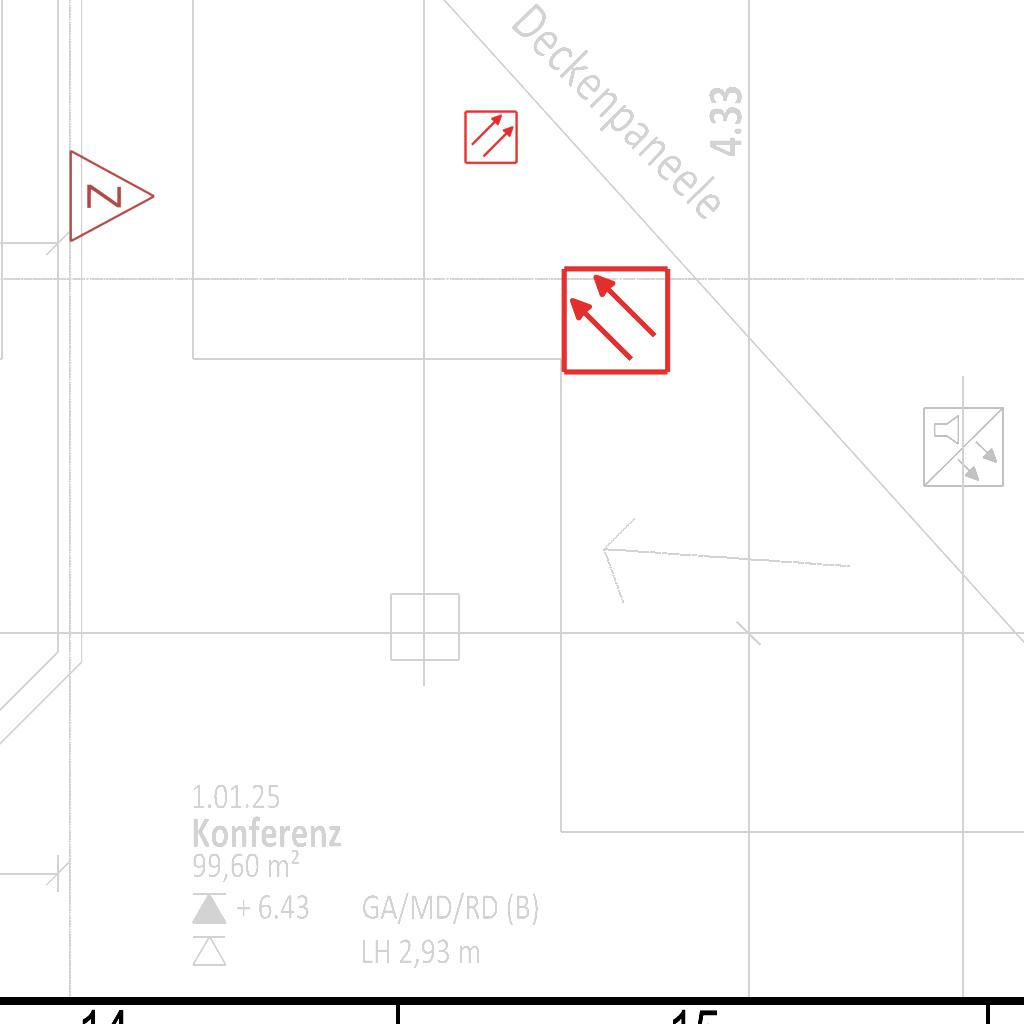RMO_Rauchmelder_optischer: (559, 264, 672, 377), (463, 109, 519, 165)
Zimmersignalleuchte: (62, 146, 162, 244)
